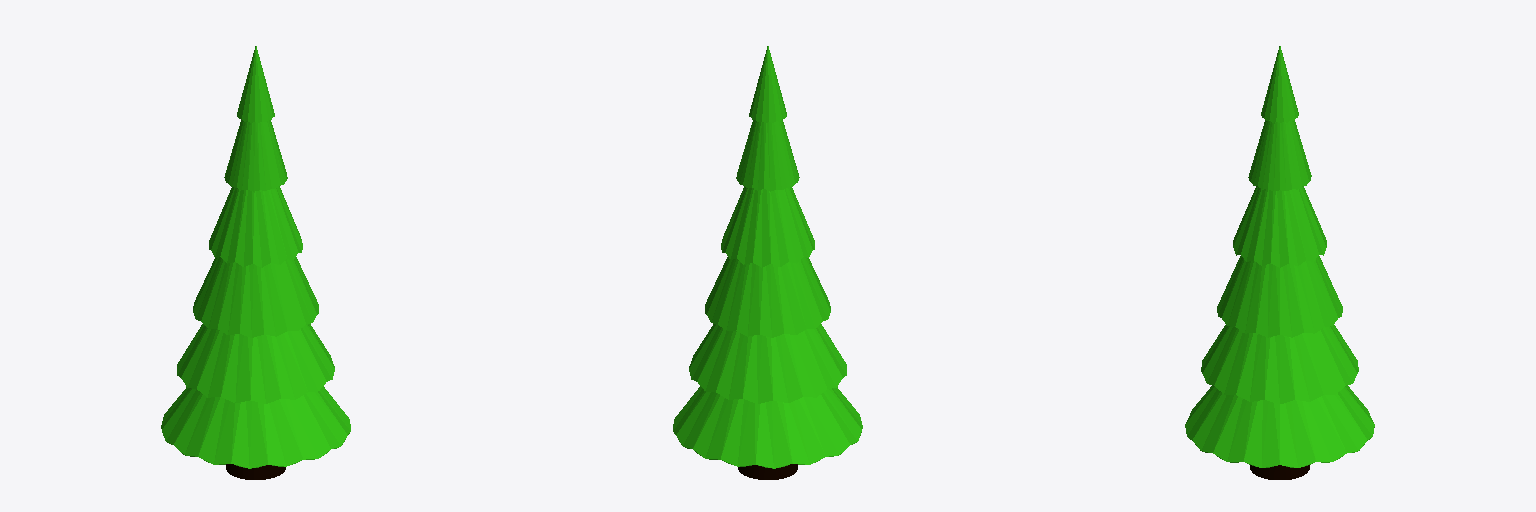
Rendered from lowPolyTree1.obj.
3 views of the same model, side by side, from view 1: azimuth 30°, elevation 25°; view 2: azimuth 150°, elevation 25°; view 3: azimuth 270°, elevation 25° (orthographic).
Parts seen in each view (by area): view 1: Cylinder; view 2: Cylinder; view 3: Cylinder.
Part boxes in pixels (left/top/right/bottom): Cylinder: left=161, top=46, right=350, bottom=479; Cylinder: left=673, top=46, right=862, bottom=479; Cylinder: left=1185, top=46, right=1374, bottom=479.
Bounding box in the file's own units: 5.4 × 13.25 × 5.39.